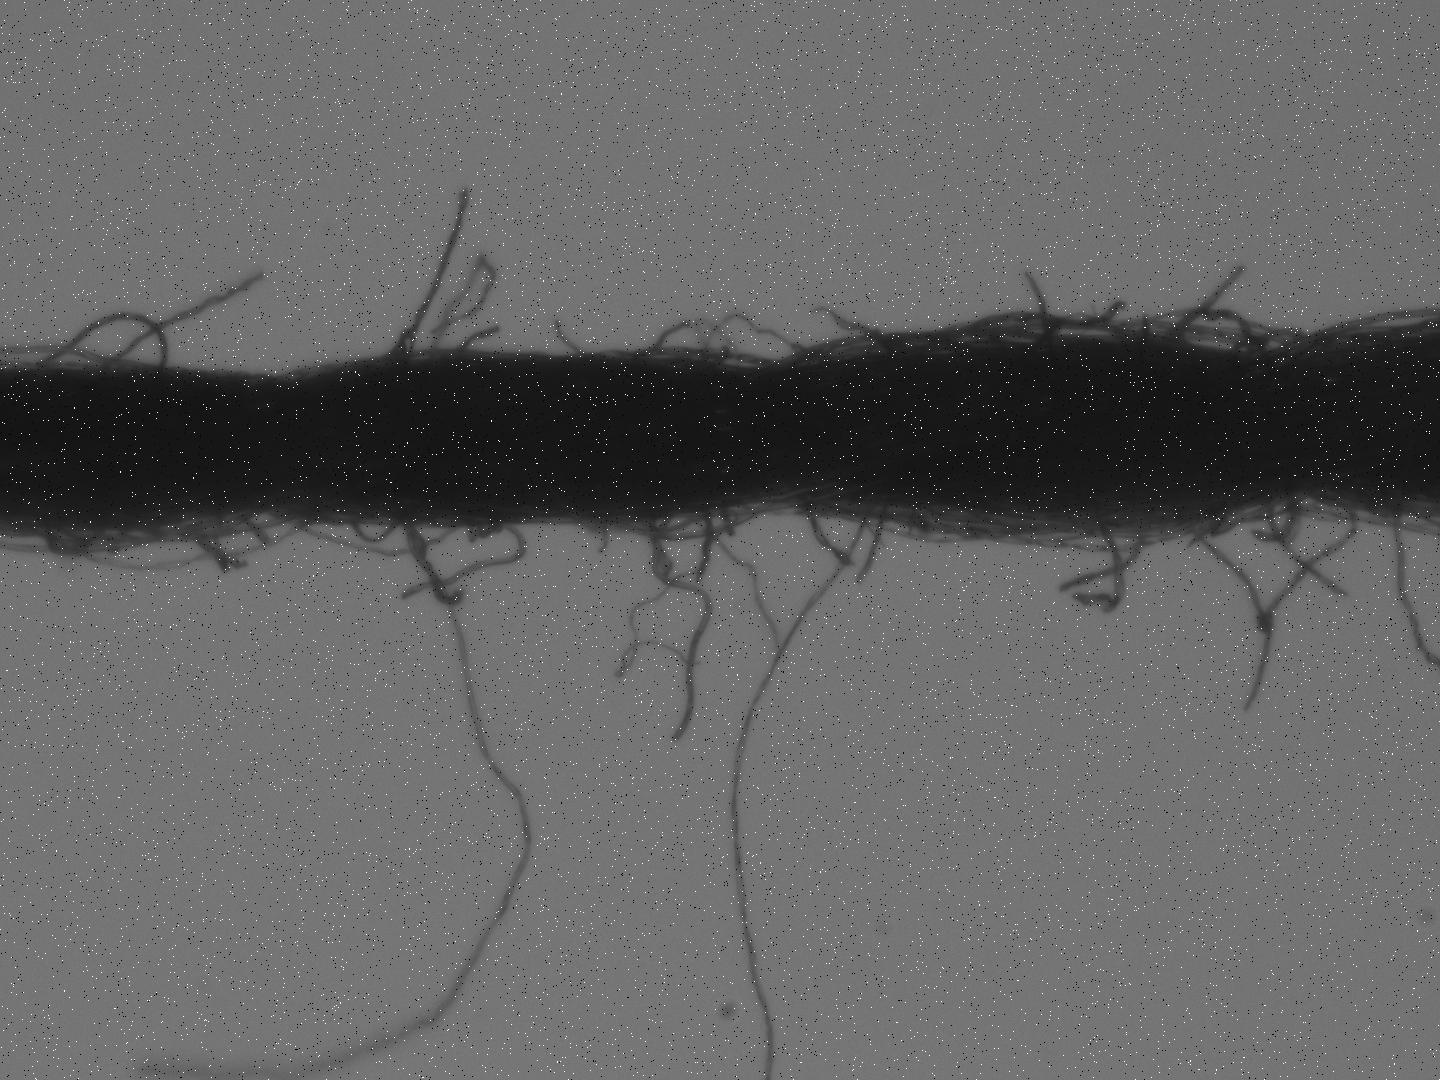loop_fiber: (33, 312, 168, 377), (263, 511, 454, 554), (837, 500, 1022, 545), (943, 310, 1137, 352), (608, 496, 770, 545), (783, 328, 971, 363), (1164, 303, 1259, 349), (37, 521, 105, 557), (1235, 320, 1306, 351), (345, 512, 407, 541)
protruding_fiber: (98, 268, 264, 372), (384, 184, 466, 358), (1060, 524, 1157, 594), (1168, 259, 1246, 340), (798, 493, 854, 568), (853, 505, 892, 585), (1022, 267, 1050, 343), (451, 320, 499, 361), (695, 500, 714, 582)
